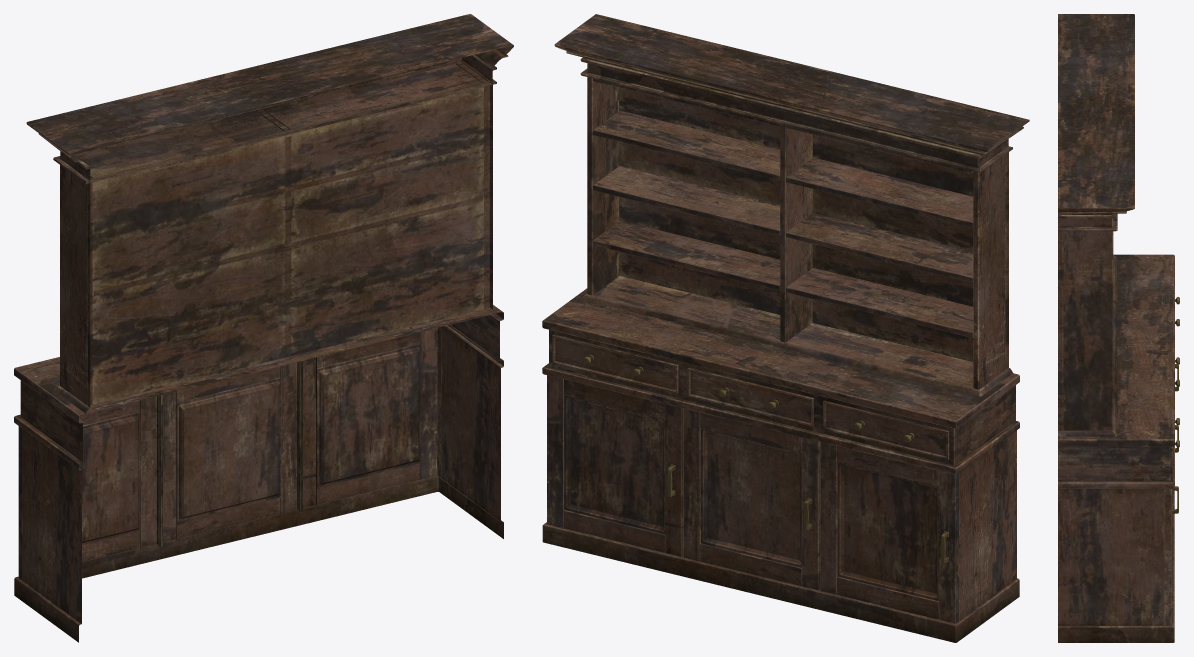
Rendered from shelf_hutch.glb.
The picture shows the model from 3 angles, left to right: view 1: azimuth 30°, elevation 25°; view 2: azimuth 150°, elevation 25°; view 3: azimuth 270°, elevation 25°; orthographic projection. The views are drawn at different scales.
Parts seen in each view (by area): view 1: low_test_0; view 2: low_test_0; view 3: low_test_0.
Part boxes in pixels (left/top/right/bottom): low_test_0: left=14, top=14, right=513, bottom=642; low_test_0: left=542, top=14, right=1029, bottom=642; low_test_0: left=1058, top=14, right=1179, bottom=642.
Bounding box in the file's own units: 2.1 × 2.22 × 0.5587.
1 material, 1 textured.
